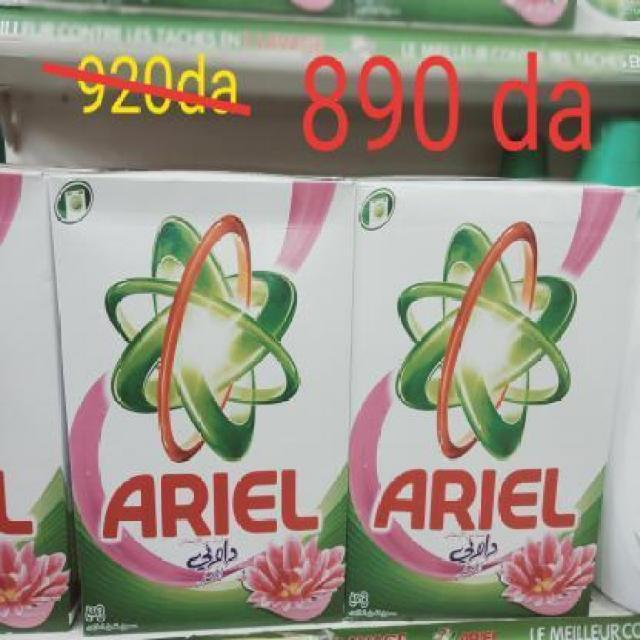Detergent: (46, 173, 352, 622), (349, 177, 489, 624)
